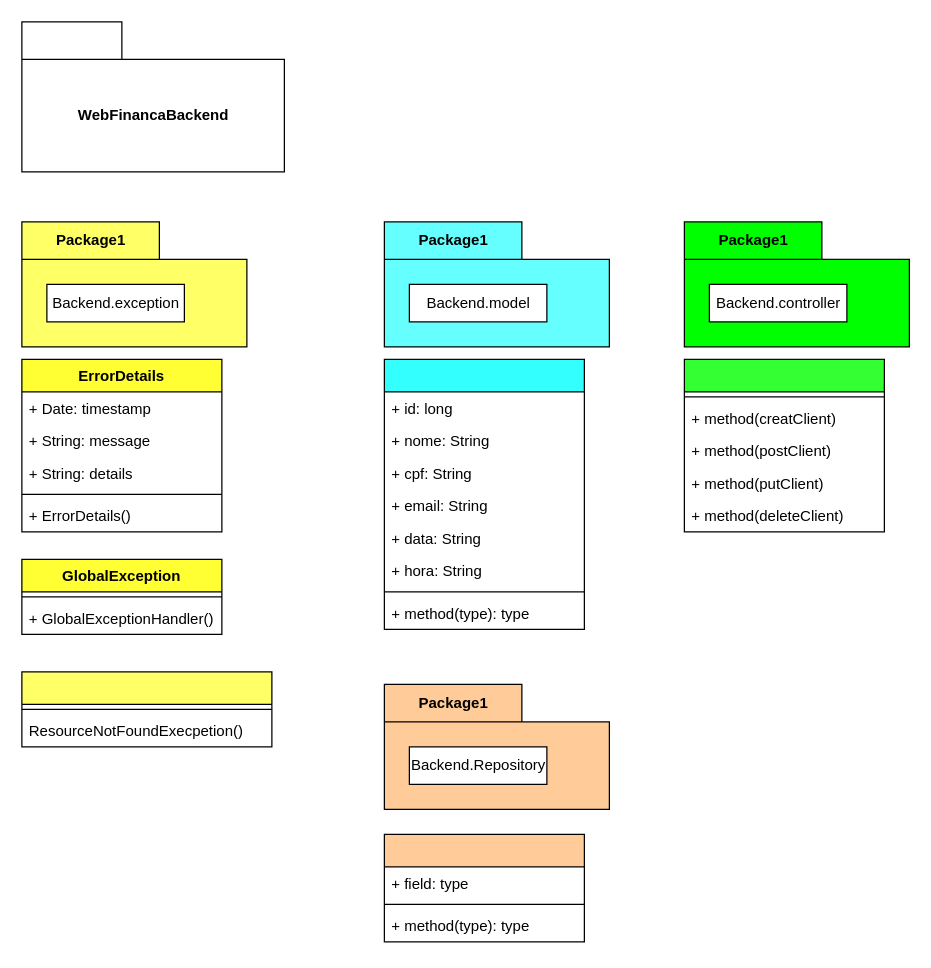
The diagram is 931 pixels wide and 968 high, and some of its shapes have lost their labels. The shapes that lost their labels are listed below. From the top down, each one's box as (x1, y1, x2, y2) in pixels, then its label:
(683, 358, 884, 532): ClienteController
(383, 358, 584, 629): ClienteFisicaDB
(21, 671, 272, 747): ResourceNotFoundException
(383, 833, 584, 942): InterfaceClientRepository
